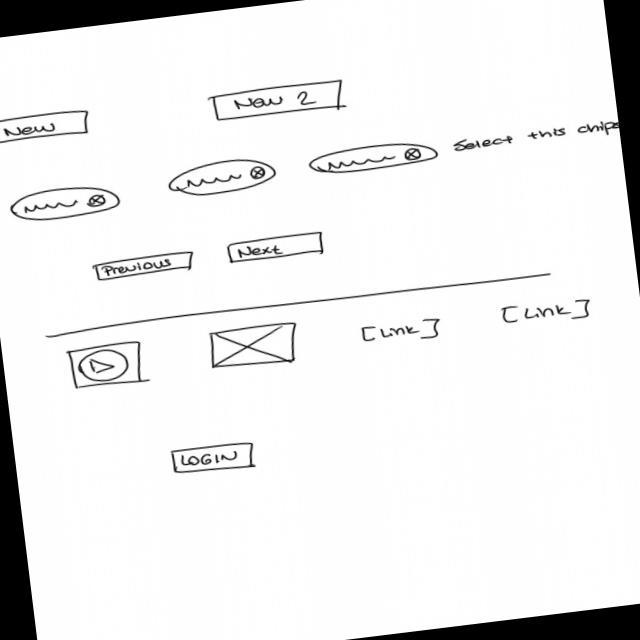button: (208, 77, 346, 124), (0, 107, 92, 146), (92, 248, 196, 282), (225, 229, 326, 264), (170, 438, 259, 476)
image: (205, 319, 302, 373)
label: (452, 118, 620, 156)
link: (500, 295, 594, 329), (358, 314, 442, 349)
